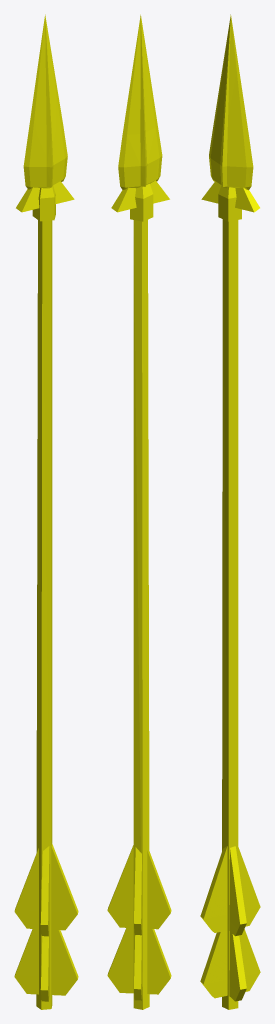
File: _arrow_c_15.glb
The picture shows the model from 3 angles, left to right: view 1: azimuth 30°, elevation 25°; view 2: azimuth 210°, elevation 25°; view 3: azimuth 330°, elevation 25°; orthographic projection.
Parts seen in each view (by area): view 1: arrow_c_15; view 2: arrow_c_15; view 3: arrow_c_15.
Part boxes in pixels (x1,y1,x2,y2): arrow_c_15: (14,14,78,1009); arrow_c_15: (107,14,171,1009); arrow_c_15: (200,14,260,1009).
Size of the model in its own units: 1219 by 21811 by 1137.
